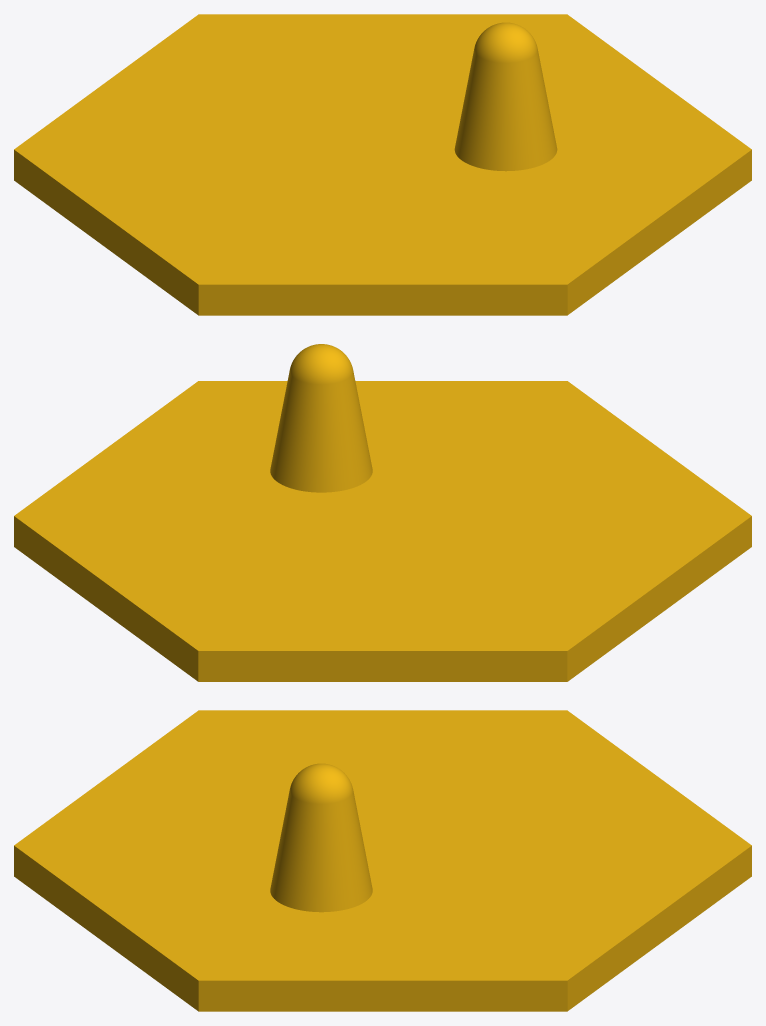
The model's file is little_toy.obj.
3 renders of one model, top to bottom at view 1: azimuth 30°, elevation 25°; view 2: azimuth 150°, elevation 25°; view 3: azimuth 270°, elevation 25°, orthographic.
Parts seen in each view (by area): view 1: mesh98, mesh99, mesh71, mesh100, mesh97, mesh70; view 2: mesh98, mesh101, mesh71, mesh100, mesh102, mesh70; view 3: mesh98, mesh103, mesh71, mesh97, mesh102, mesh70.
Boxes of the visible parts, x1,y1,x2,y2 form: mesh98: (14,14,751,284); mesh99: (198,284,567,315); mesh71: (454,49,557,171); mesh100: (14,150,198,315); mesh97: (567,150,751,314); mesh70: (474,22,537,62); mesh98: (14,381,751,650); mesh101: (198,651,567,681); mesh71: (270,371,372,492); mesh100: (567,516,751,681); mesh102: (14,516,198,681); mesh70: (289,344,353,384); mesh98: (14,710,751,980); mesh103: (198,980,567,1011); mesh71: (270,791,372,912); mesh97: (14,846,198,1011); mesh102: (567,846,751,1010); mesh70: (289,763,353,804).
Bounding box in the file's own units: 0.0935 × 0.025 × 0.108.
